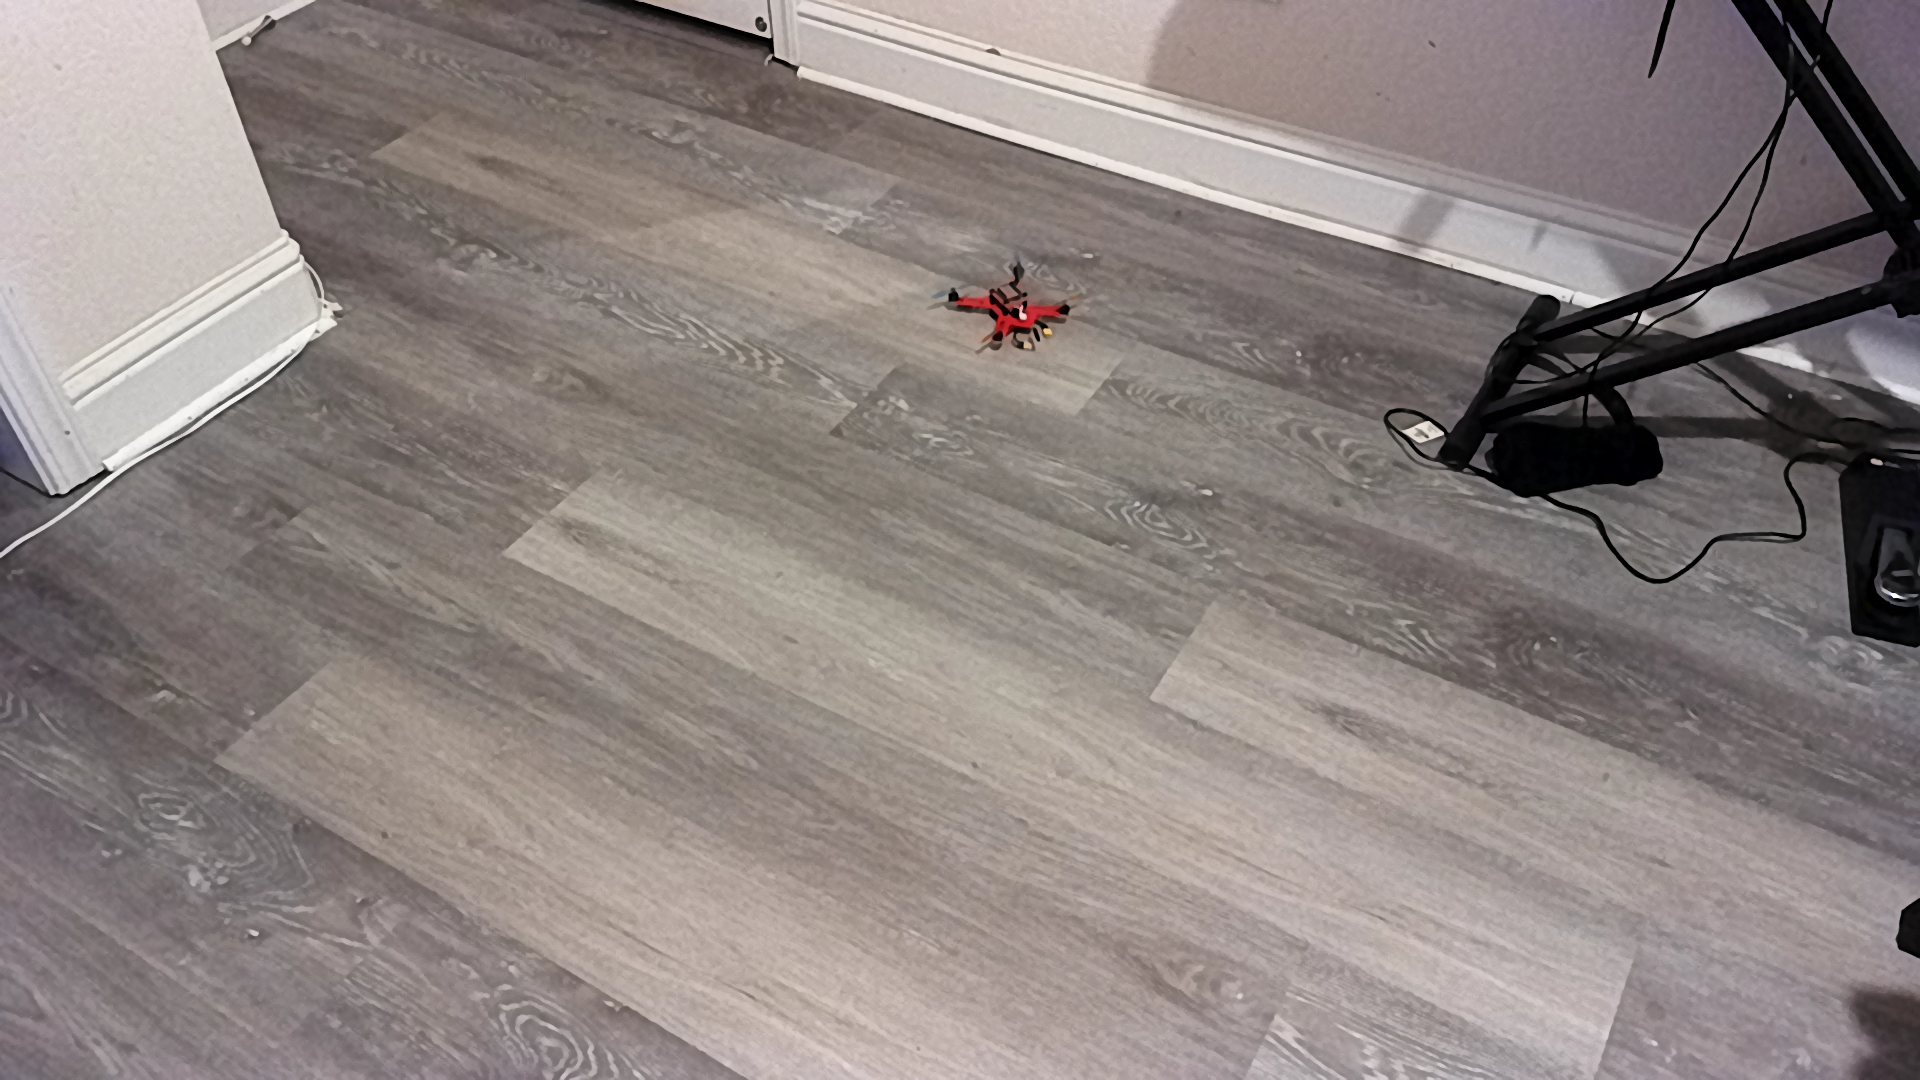drone: (926, 251, 1100, 367)
